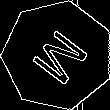M_SE: (23, 22, 93, 89)
